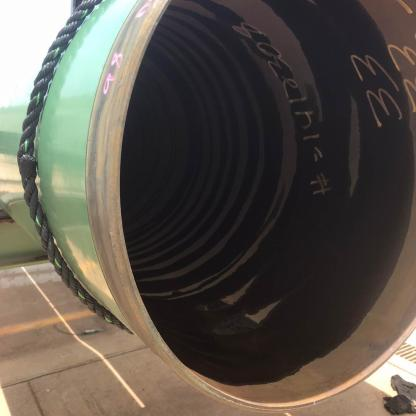Bevel: (108, 225, 126, 243)
